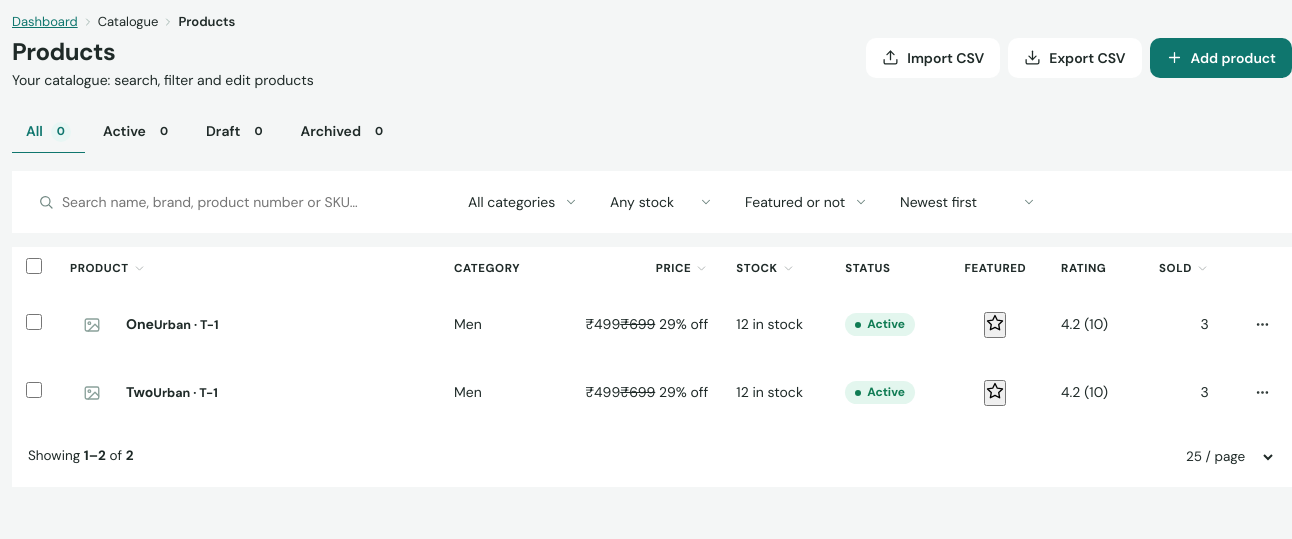
Scenario: ticking rows reveals the bulk bar with status, feature, export and delete
Click the checkbox named "Select this row" next to "One" at (34, 322), box [26,314,42,330]
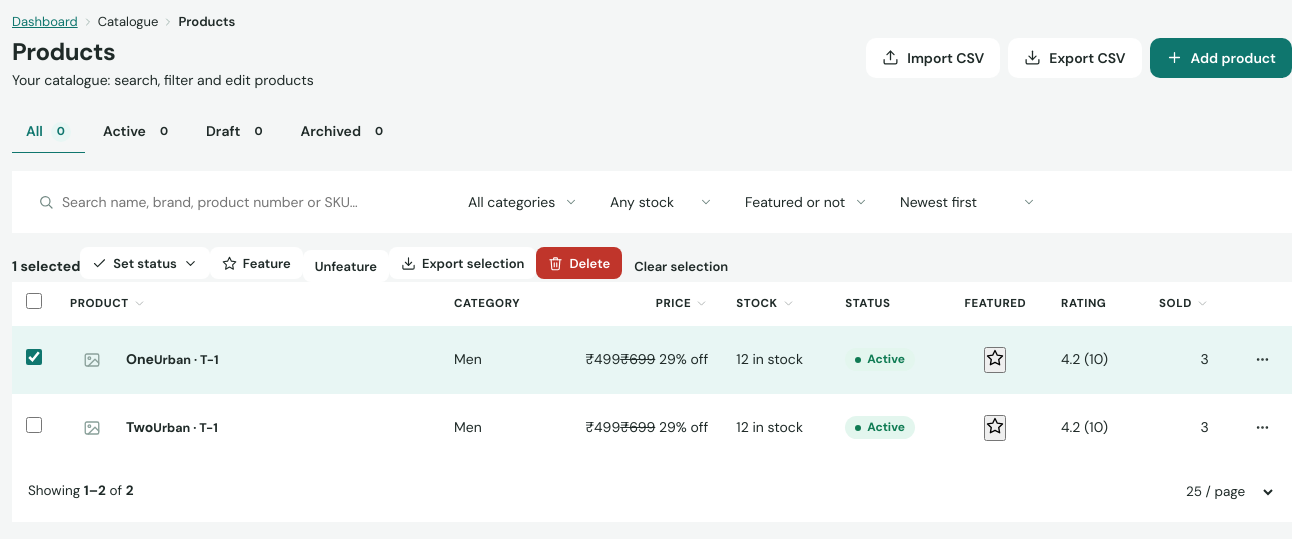
Expected: the element named "Bulk actions" shows "1 selected", [12,247,740,282]
